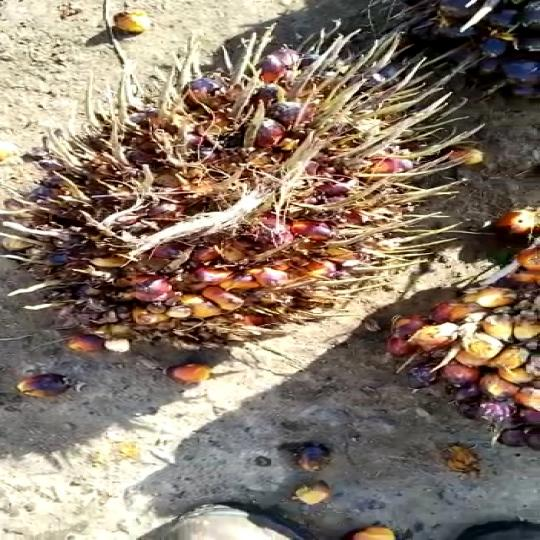terlalu masak: (0, 23, 493, 368)
